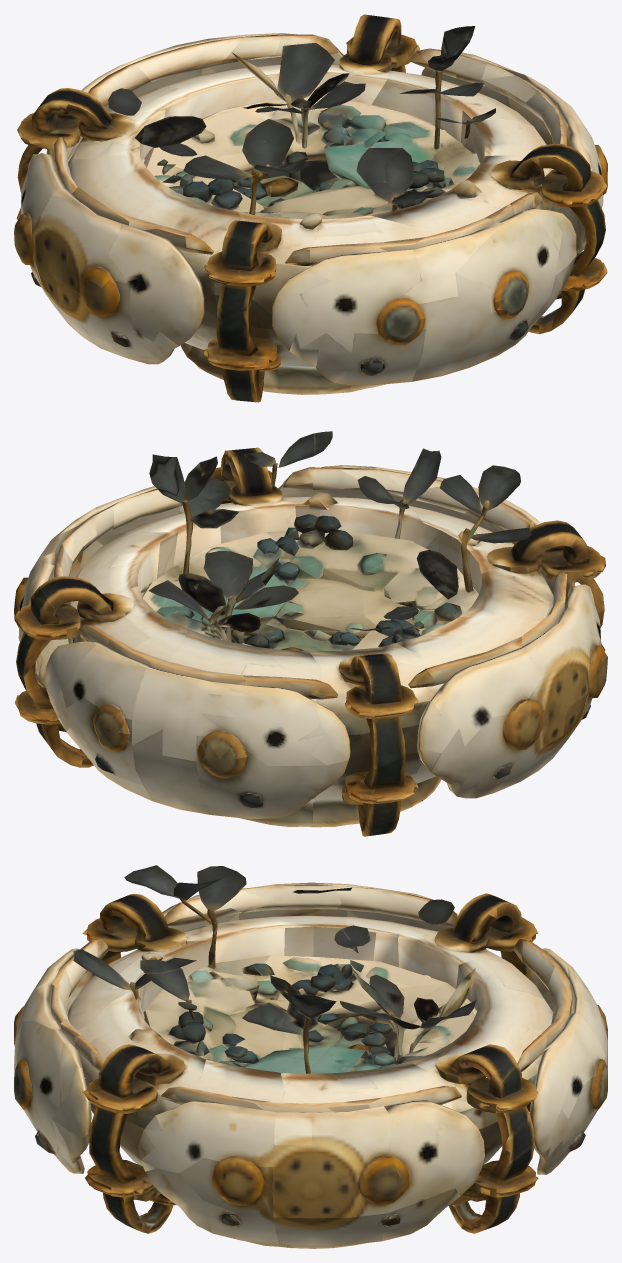
Rendered from arch-planter.glb.
The picture shows the model from 3 angles, top to bottom: view 1: azimuth 30°, elevation 25°; view 2: azimuth 150°, elevation 25°; view 3: azimuth 270°, elevation 25°; orthographic projection.
Visible parts, largest first — view 1: Mesh_0; view 2: Mesh_0; view 3: Mesh_0.
Part boxes in pixels (<box>): Mesh_0: <box>14,14,607,402</box>; Mesh_0: <box>14,431,607,836</box>; Mesh_0: <box>14,865,607,1248</box>.
Size of the model in its own units: 1 by 0.5176 by 1.
1 material, 1 textured.
